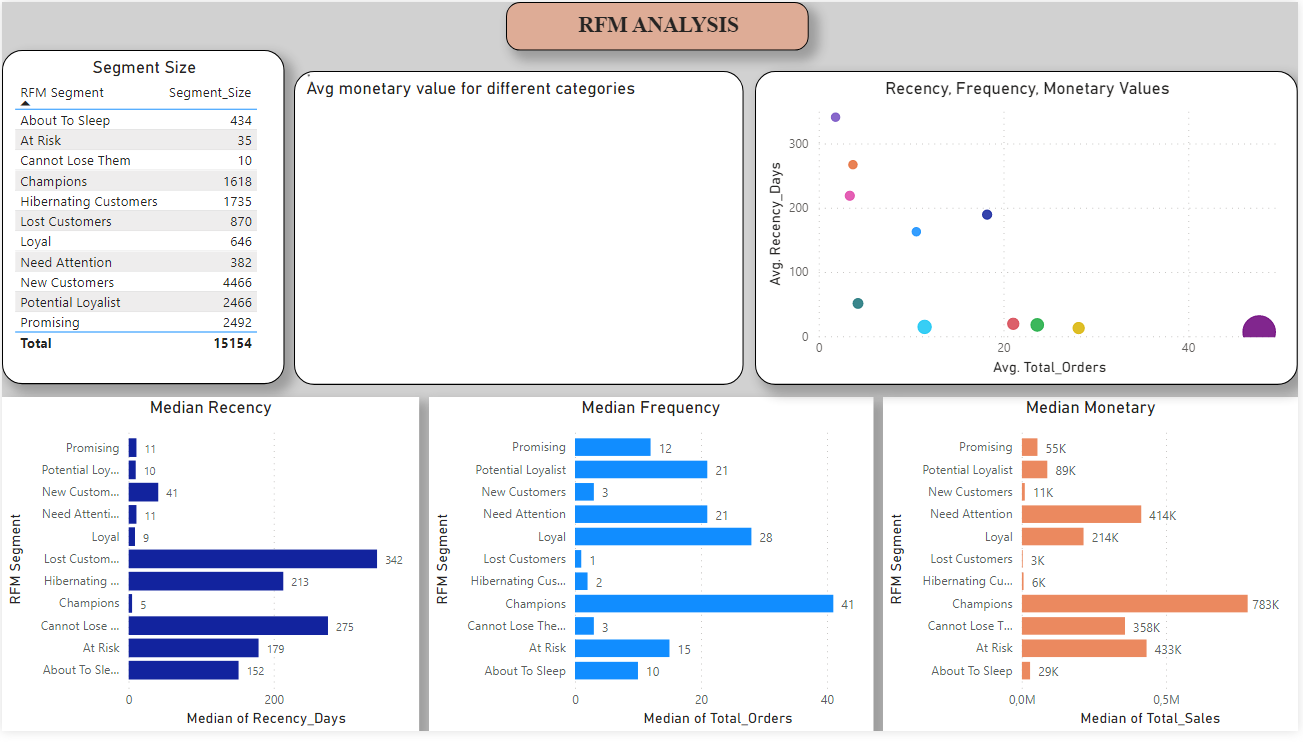

What the dashboard file says about the page in this screenshot:
{"tool":"powerbi","page":{"name":"RFM Visuals","canvas":[1280,720],"ordinal":1},"visuals":[{"type":"tableEx","title":"Segment Size","fields":{"Values":["RFM.RFM Segmenting.Segment","RFM.Segment_Size"]},"box":[0,47.5,279.3,330.4],"z":0},{"type":"clusteredBarChart","title":"Median Recency","fields":{"Category":["RFM.RFM Segment"],"Y":["Median(RFM.Days_After_LastOrder)"]},"box":[0,389.8,412.4,330.4],"z":1000},{"type":"clusteredBarChart","title":"Median Frequency","fields":{"Category":["RFM.RFM Segment"],"Y":["Median(RFM.Total_Orders)"]},"box":[421.9,389.8,438.6,330.4],"z":2000},{"type":"clusteredBarChart","title":"Median Monetary","fields":{"Category":["RFM.RFM Segment"],"Y":["Median(RFM.Total_Sales)"]},"box":[870,389.8,410,330.4],"z":3000},{"type":"pythonVisual","title":"Avg monetary value for different categories","fields":{"Values":["RFM.Frequency","RFM.Recency","RFM.Total_Sales"]},"box":[288.8,67.7,444.5,310.2],"z":4000},{"type":"scatterChart","title":"Recency, Frequency, Monetary Values","fields":{"Series":["RFM.RFM Segment"],"Size":["Sum(RFM.Total_Sales)"],"X":["Avg(RFM.Total_Orders)"],"Y":["Avg(RFM.Recency_Days)"]},"box":[744,67.7,536,310.2],"z":5001},{"type":"textbox","box":[498,0,299.5,47.5],"z":5002}]}

Visuals, with their boxes in screenshot pixels (x1, y1, x2, y2), scaled from the page's 1280x720 canvas onto the 1303x742 screenshot:
"Segment Size" tableEx: <bbox>0, 49, 284, 389</bbox>
"Median Recency" clusteredBarChart: <bbox>0, 402, 420, 741</bbox>
"Median Frequency" clusteredBarChart: <bbox>429, 402, 876, 741</bbox>
"Median Monetary" clusteredBarChart: <bbox>886, 402, 1302, 741</bbox>
"Avg monetary value for different categories" pythonVisual: <bbox>294, 70, 746, 389</bbox>
"Recency, Frequency, Monetary Values" scatterChart: <bbox>757, 70, 1302, 389</bbox>
textbox: <bbox>507, 0, 812, 49</bbox>
